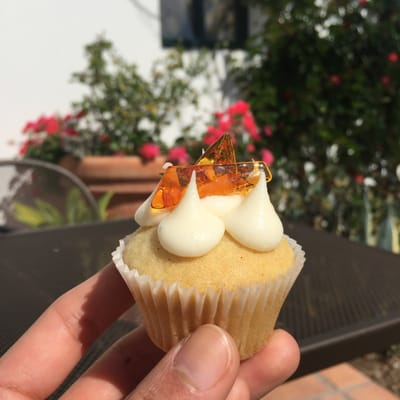curry: (10, 214, 400, 400)
pasta: (0, 157, 105, 231)
sushi: (113, 160, 308, 360)
